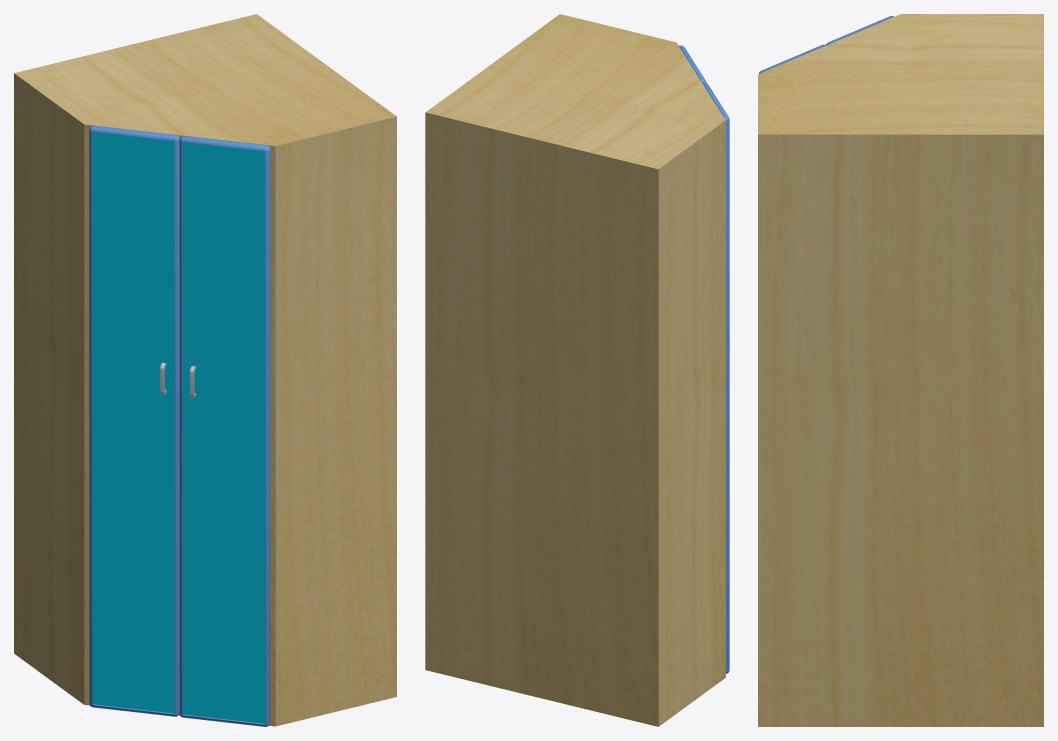
File: sweethome3d-lucapresidente-blue-corner-wardrobe.glb
The picture shows the model from 3 angles, left to right: view 1: azimuth 30°, elevation 25°; view 2: azimuth 150°, elevation 25°; view 3: azimuth 270°, elevation 25°; orthographic projection. The views are drawn at different scales.
Visible parts, largest first — view 1: Line33_7, Box23_2, Box24_5, ChamferBox21_4, ChamferBox20_3; view 2: Line33_7, ChamferBox20_3; view 3: Line33_7.
Part boxes in pixels (bbox=[...]): Line33_7: bbox=[14, 14, 396, 726]; Box23_2: bbox=[92, 132, 174, 713]; Box24_5: bbox=[183, 142, 264, 723]; ChamferBox21_4: bbox=[179, 136, 270, 726]; ChamferBox20_3: bbox=[89, 126, 179, 716]; Line33_7: bbox=[425, 14, 725, 726]; ChamferBox20_3: bbox=[702, 82, 729, 673]; Line33_7: bbox=[758, 14, 1043, 726].
Bounding box in the file's own units: 105 × 240 × 105.
Materials: 4 (1 with a texture image).
